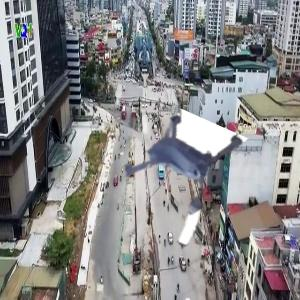drone: (99, 108, 232, 241)
